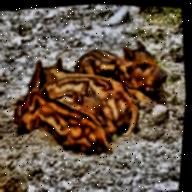boar: (76, 22, 180, 103)
